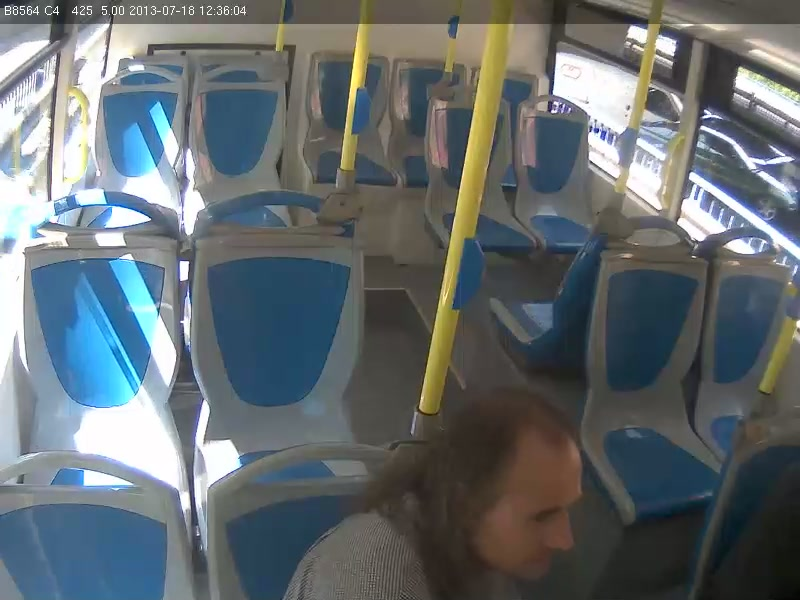Head: (434, 382, 594, 584)
